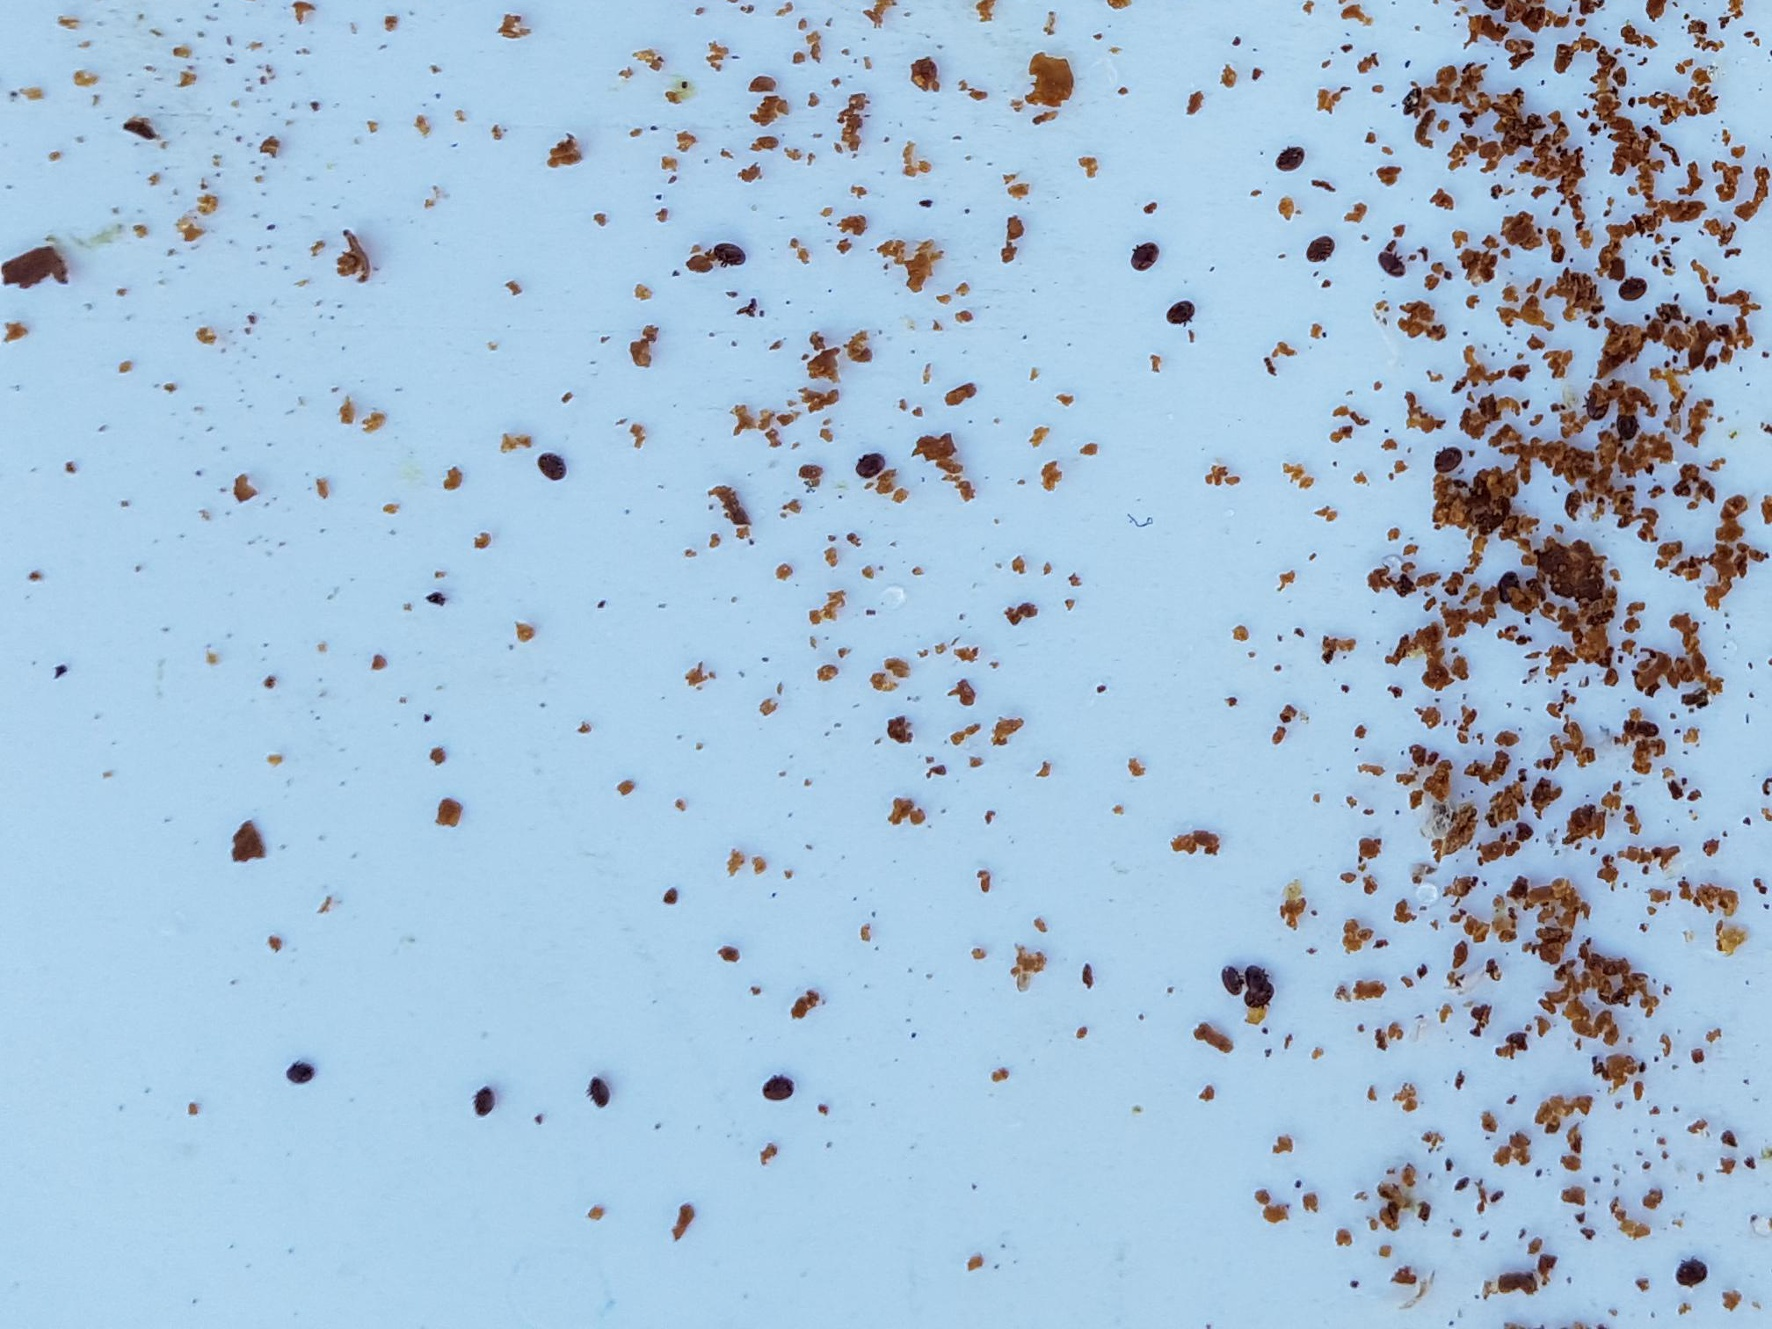Varroa: (1607, 406, 1646, 445), (1674, 1256, 1708, 1293), (1579, 385, 1614, 417), (1161, 296, 1193, 329), (1212, 955, 1245, 988), (1274, 142, 1306, 175), (1432, 445, 1464, 476), (760, 1074, 791, 1104), (1245, 979, 1275, 1009), (713, 244, 744, 274), (1305, 232, 1334, 262), (283, 1060, 313, 1089), (1494, 575, 1524, 604), (585, 1081, 613, 1111), (536, 445, 564, 475), (1369, 250, 1397, 279), (473, 1087, 501, 1115), (854, 447, 882, 475), (1126, 236, 1152, 264), (1614, 267, 1639, 292)
